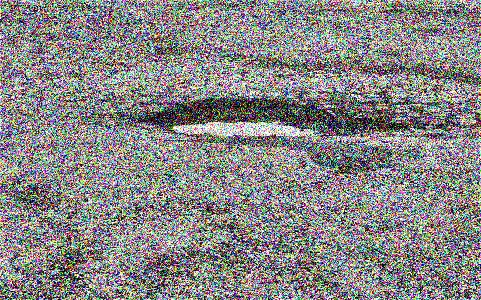pothole: (142, 92, 412, 140)
